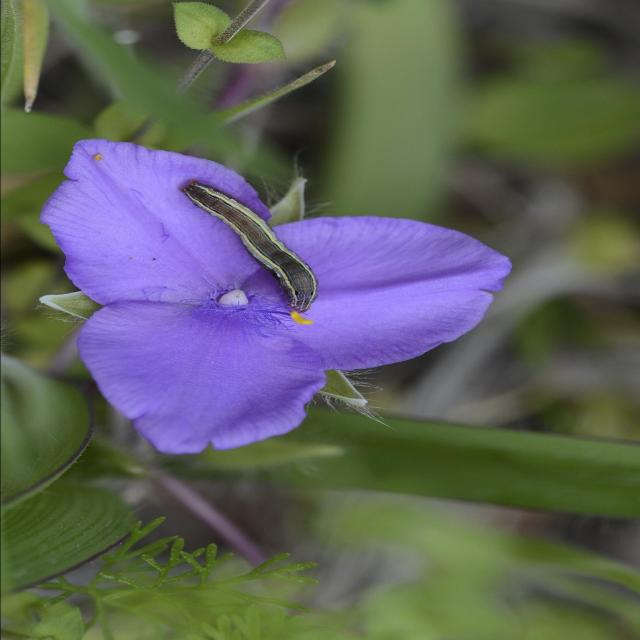army worm: (173, 183, 320, 321)
